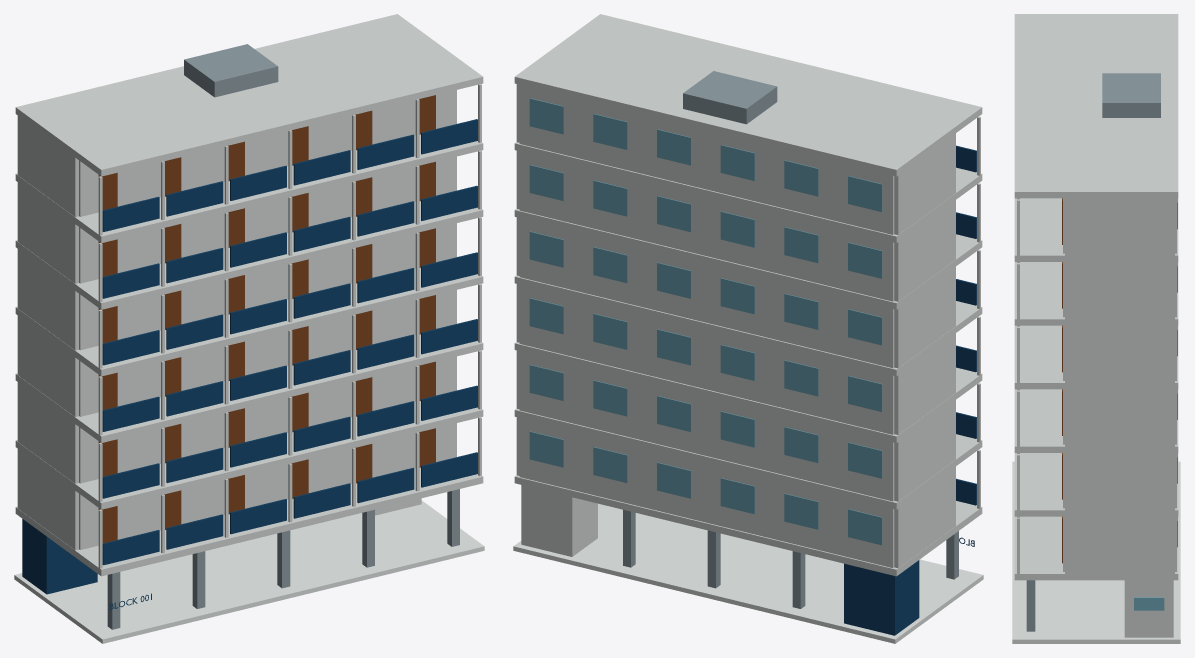
Rendered from hdb_block.glb.
3 renders of one model, left to right at view 1: azimuth 30°, elevation 25°; view 2: azimuth 150°, elevation 25°; view 3: azimuth 270°, elevation 25°, orthographic. The views are drawn at different scales.
Parts seen in each view (by area): view 1: hdb_block; view 2: hdb_block; view 3: hdb_block.
Part boxes in pixels (x1,y1,x2,y2): hdb_block: [14, 14, 484, 643]; hdb_block: [513, 14, 983, 643]; hdb_block: [1012, 14, 1180, 643].
Bounding box in the file's own units: 18 × 22 × 7.2.
